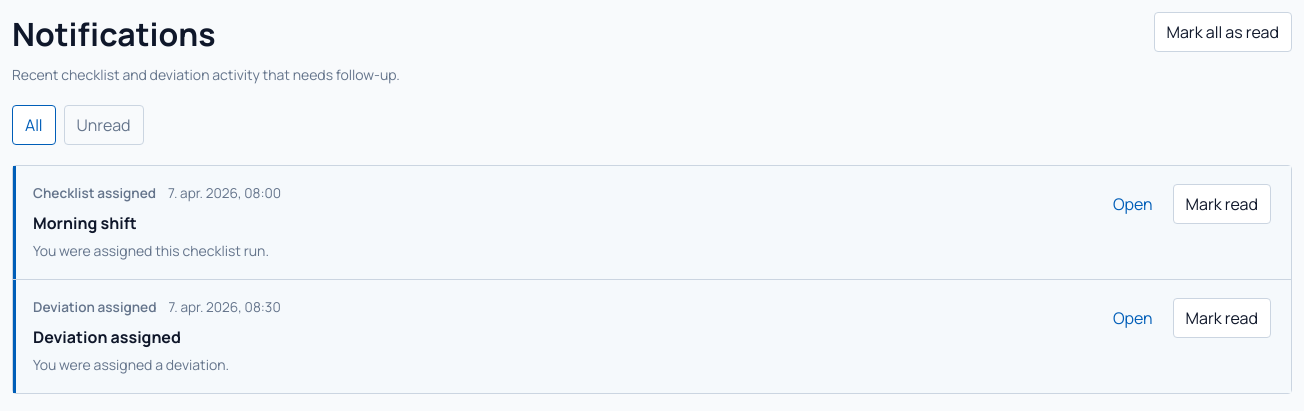
it: NotificationsPage › marks all notifications as read in the all filter
The image size is (1304, 411).
Expected: the number of buttons with class "notification-read-button" is 2, [1173,184,1271,224]; [1173,298,1271,338]
Click the button with class "mark-all-button": (1223, 32) [1154,12,1292,52]
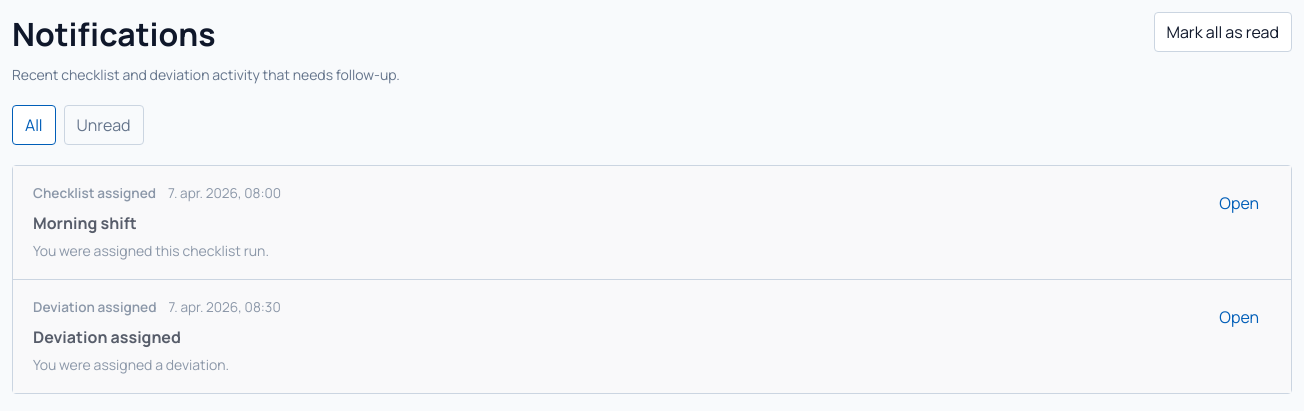
Expected: the number of elements with class "notification-row-read" is 2, [13,166,1291,279]; [13,280,1291,393]
Now no buttons with class "notification-read-button" are shown
